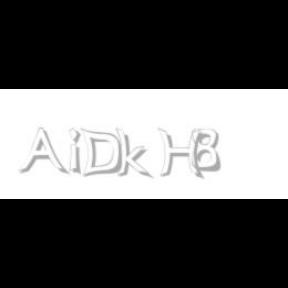8: (192, 128, 220, 172)
A: (18, 128, 66, 176)
D: (79, 128, 122, 178)
H: (158, 128, 204, 180)
i: (68, 128, 84, 176)
k: (115, 128, 153, 180)
